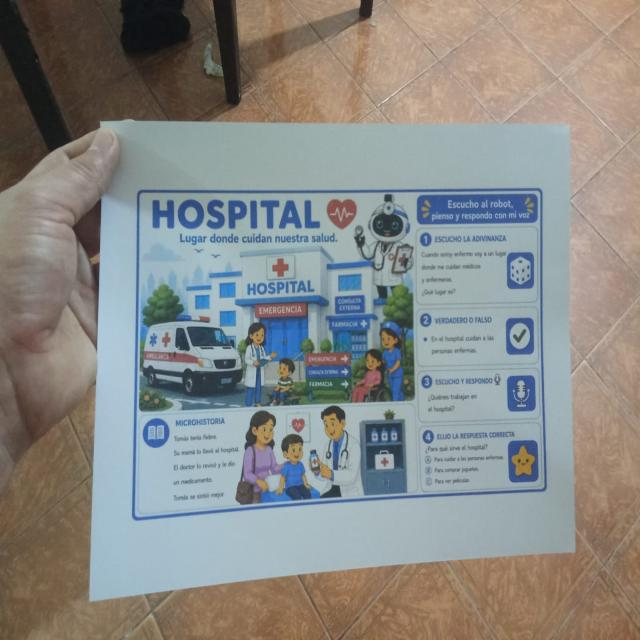hospital: (129, 183, 549, 525)
